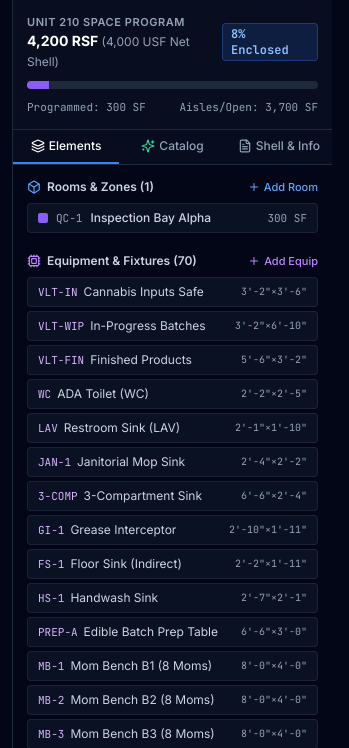
SpaceProgramSidebar component › switches to Catalog tab and displays quick-add templates
Click the button "Catalog": click(172, 147) [119, 130, 226, 164]
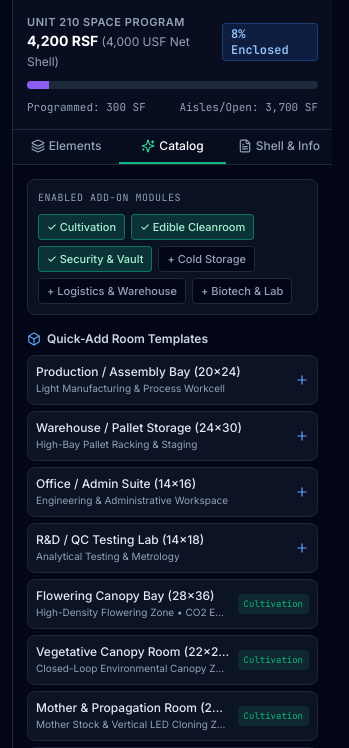
Check: the text "Quick-Add Room Templates" is shown, box [47, 331, 208, 347]
